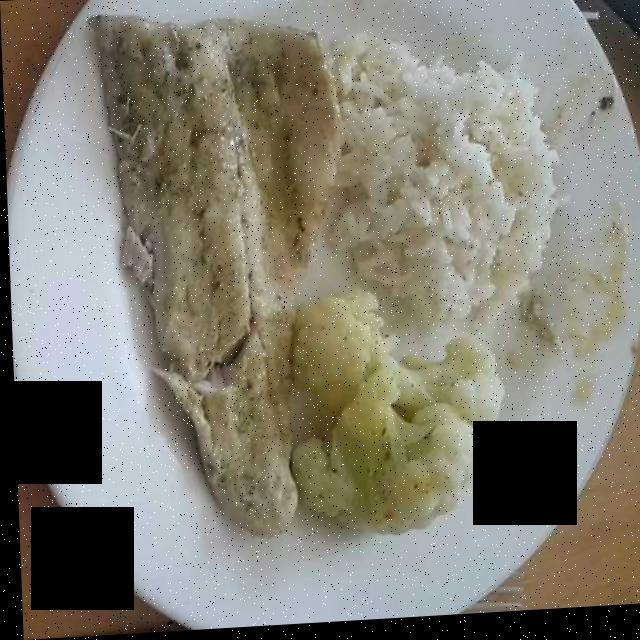cauliflower: (282, 291, 500, 590)
rice: (331, 40, 559, 341)
